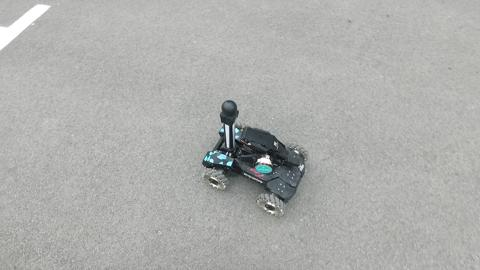chariot: (198, 98, 331, 223)
